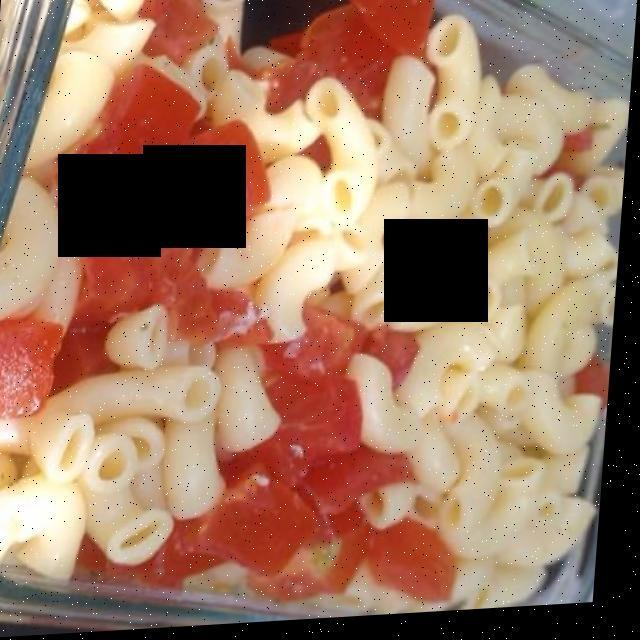pasta: (0, 0, 613, 595)
tomato: (0, 0, 456, 596)
